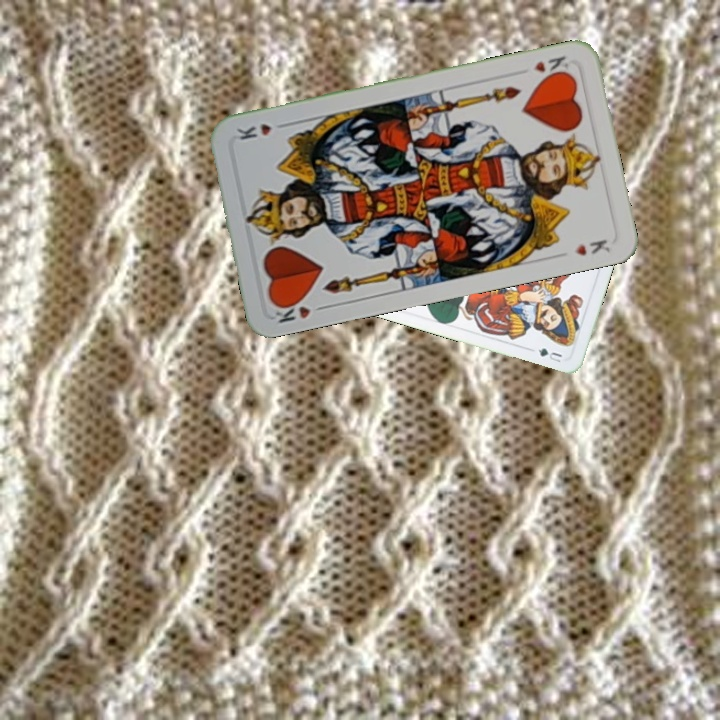HK: (271, 294, 330, 326), (529, 51, 575, 81)
